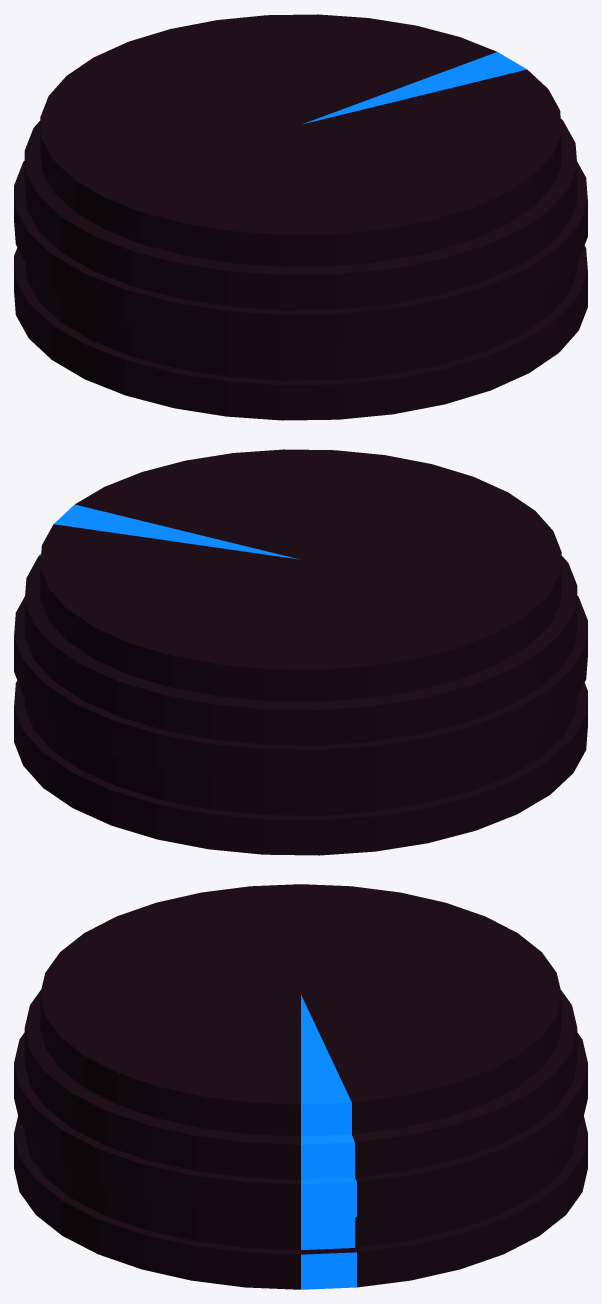
The model's file is LaserTurretTaban.fbx.
3 views of the same model, one above another, from view 1: azimuth 30°, elevation 25°; view 2: azimuth 150°, elevation 25°; view 3: azimuth 270°, elevation 25° (orthographic).
Parts seen in each view (by area): view 1: Cylinder; view 2: Cylinder; view 3: Cylinder.
Part boxes in pixels (<box>): Cylinder: <box>14,14,587,420</box>; Cylinder: <box>14,449,587,855</box>; Cylinder: <box>14,884,587,1289</box>.
Size of the model in its own units: 349 by 349 by 117.
